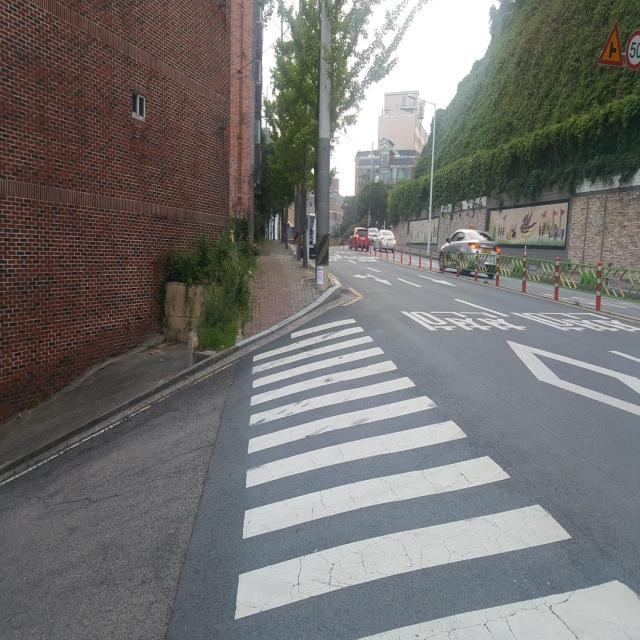횡단보도: (231, 313, 640, 640)
